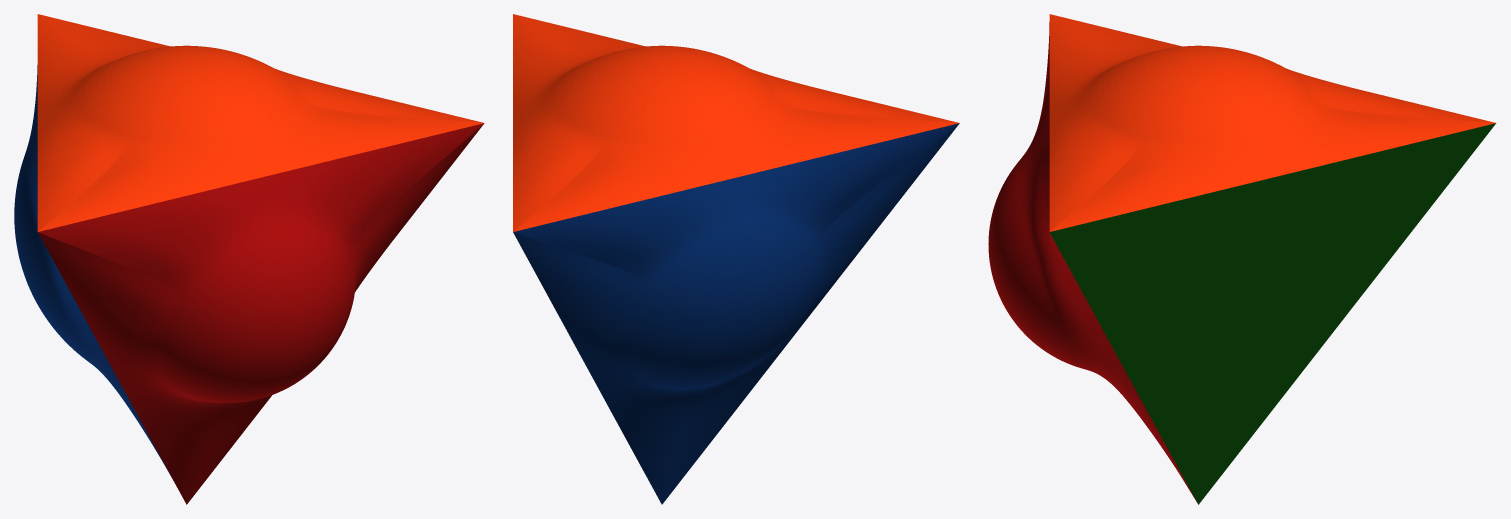
The model's file is 2_3_2_0_tetrahedron.obj.
3 renders of one model, left to right at view 1: azimuth 30°, elevation 25°; view 2: azimuth 150°, elevation 25°; view 3: azimuth 270°, elevation 25°, orthographic.
Parts seen in each view (by area): view 1: Level_3_-_level_3_front_Level_3_-_level_3_front.001, Level_2_-_level_2_top_Level_2_-_level_2_top.001, Level_2_-_level_2_left_Level_2_-_level_2_left.001; view 2: Level_2_-_level_2_left_Level_2_-_level_2_left.001, Level_2_-_level_2_top_Level_2_-_level_2_top.001; view 3: Level_0_-_level_0_right, Level_2_-_level_2_top_Level_2_-_level_2_top.001, Level_3_-_level_3_front_Level_3_-_level_3_front.001.
Boxes of the visible parts, <box> form: Level_3_-_level_3_front_Level_3_-_level_3_front.001: <box>38,123,484,504</box>; Level_2_-_level_2_top_Level_2_-_level_2_top.001: <box>37,14,483,231</box>; Level_2_-_level_2_left_Level_2_-_level_2_left.001: <box>14,65,171,477</box>; Level_2_-_level_2_left_Level_2_-_level_2_left.001: <box>513,123,959,504</box>; Level_2_-_level_2_top_Level_2_-_level_2_top.001: <box>513,14,959,231</box>; Level_0_-_level_0_right: <box>1049,123,1496,504</box>; Level_2_-_level_2_top_Level_2_-_level_2_top.001: <box>1049,14,1495,231</box>; Level_3_-_level_3_front_Level_3_-_level_3_front.001: <box>988,22,1197,503</box>.
Size of the model in its own units: 0.1 by 0.0946 by 0.0984.
